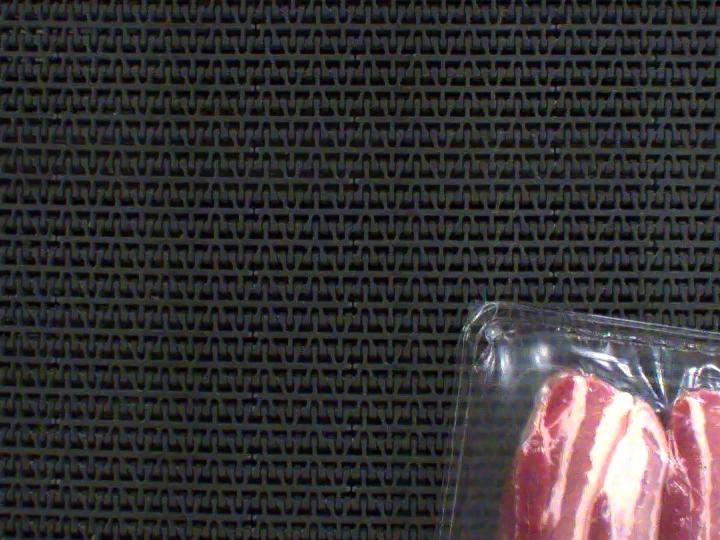unsealed: (450, 323, 720, 540)
